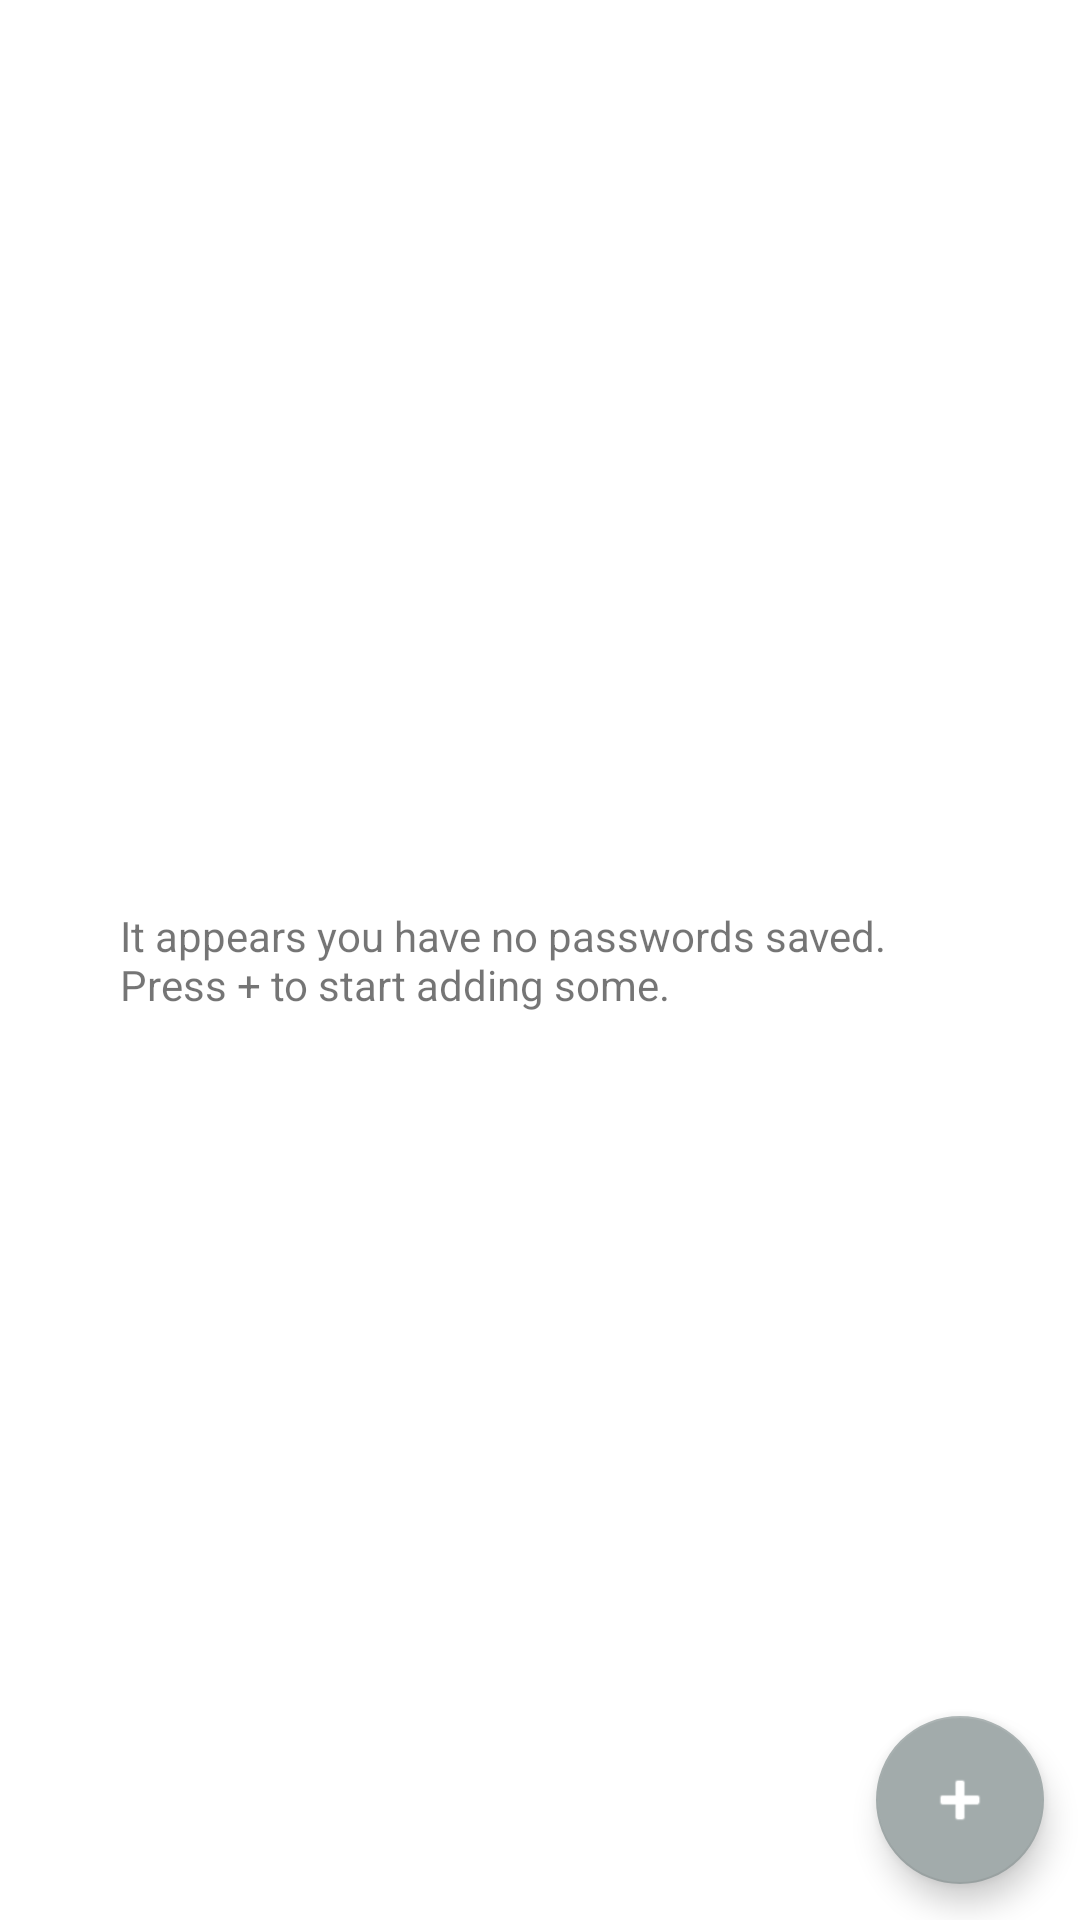

Named icons in this screenshot (1080px x 1920px) and their centers, (x,y):
Add new password: (960,1800)
